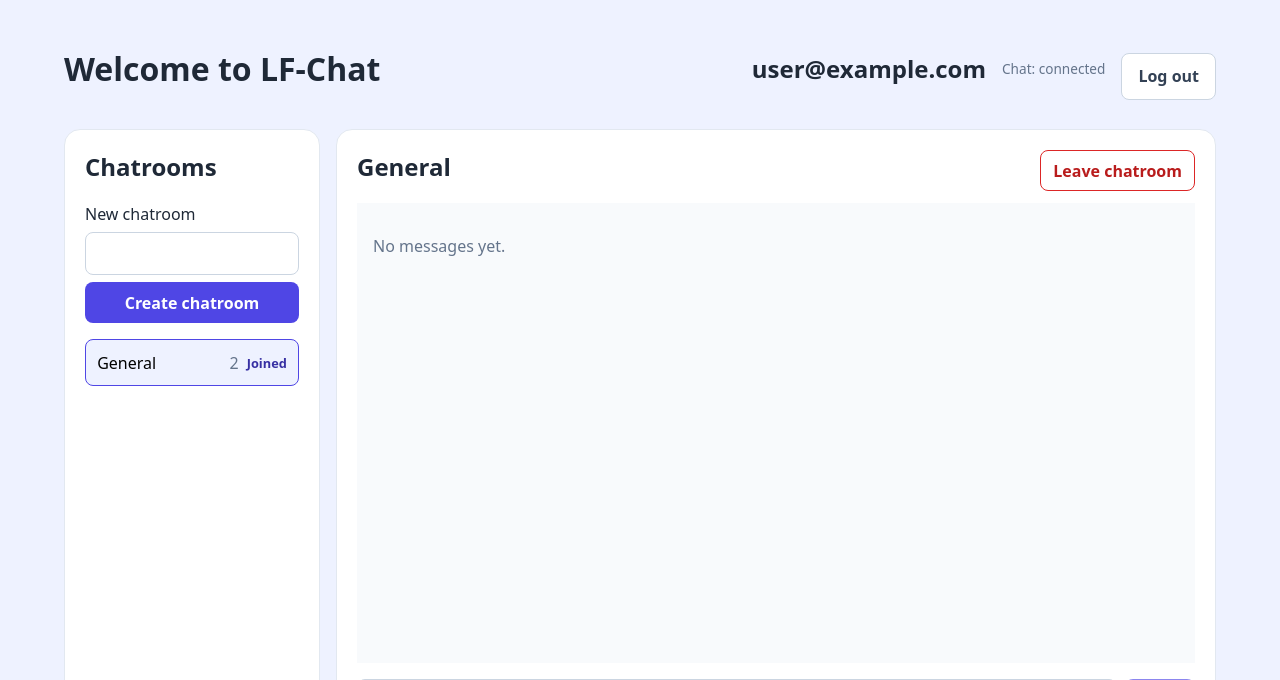
Test case: creates a room and adds it to the sidebar without changing the active chat
Type "  Support  " into the field labelled "New chatroom". click: (192, 254)
box: [85,232,299,275]
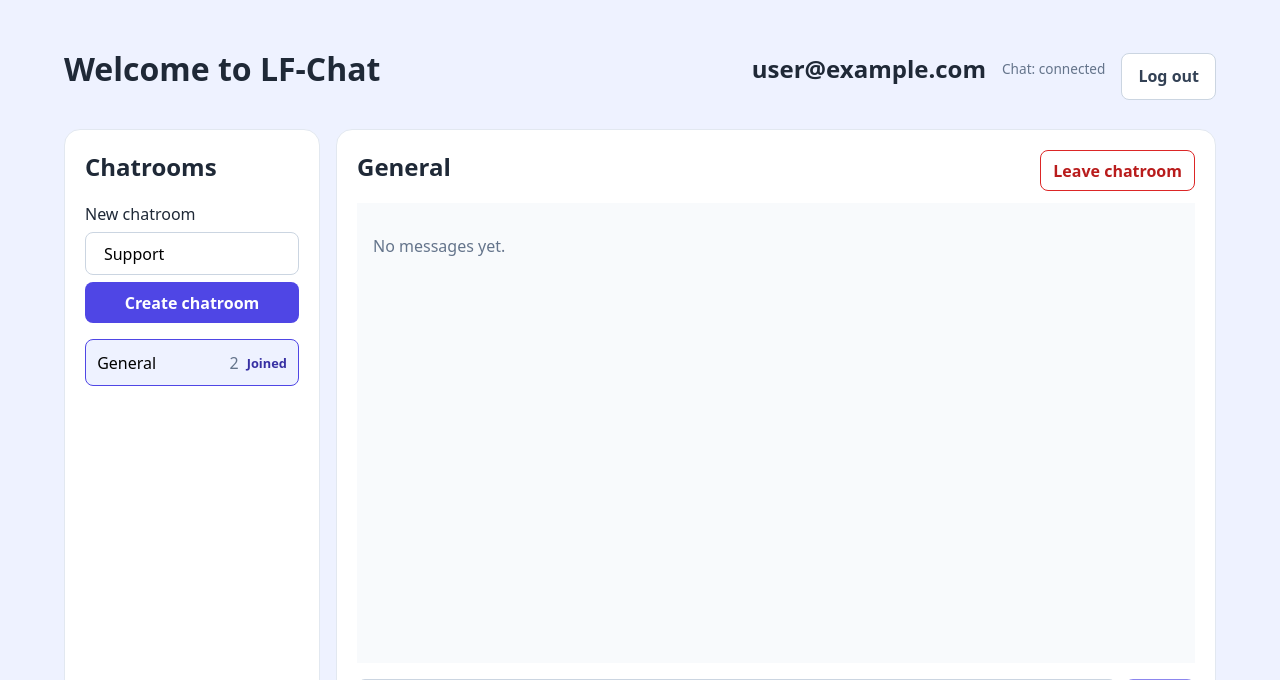
Submit the form "Create chatroom", box [85,203,299,324]
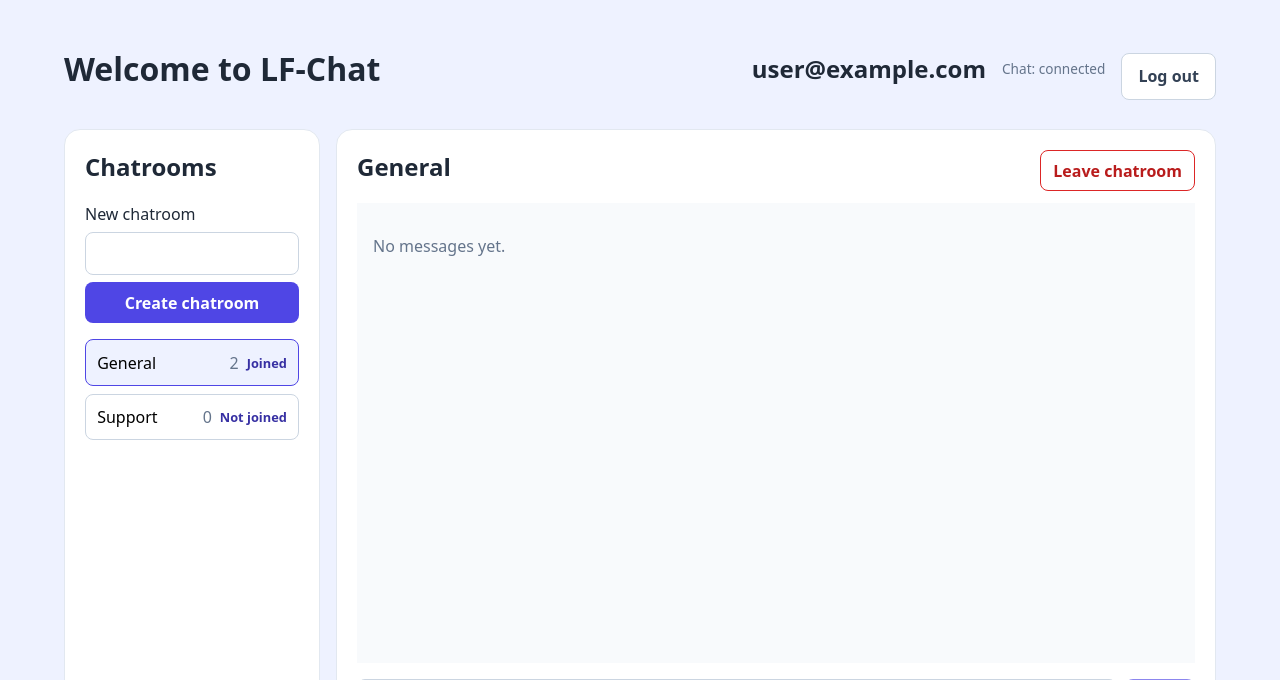
Expected: the heading "General" is shown, [357,150,451,183]
Now the button "Support 0 Not joined" is shown, box [85,394,299,440]
